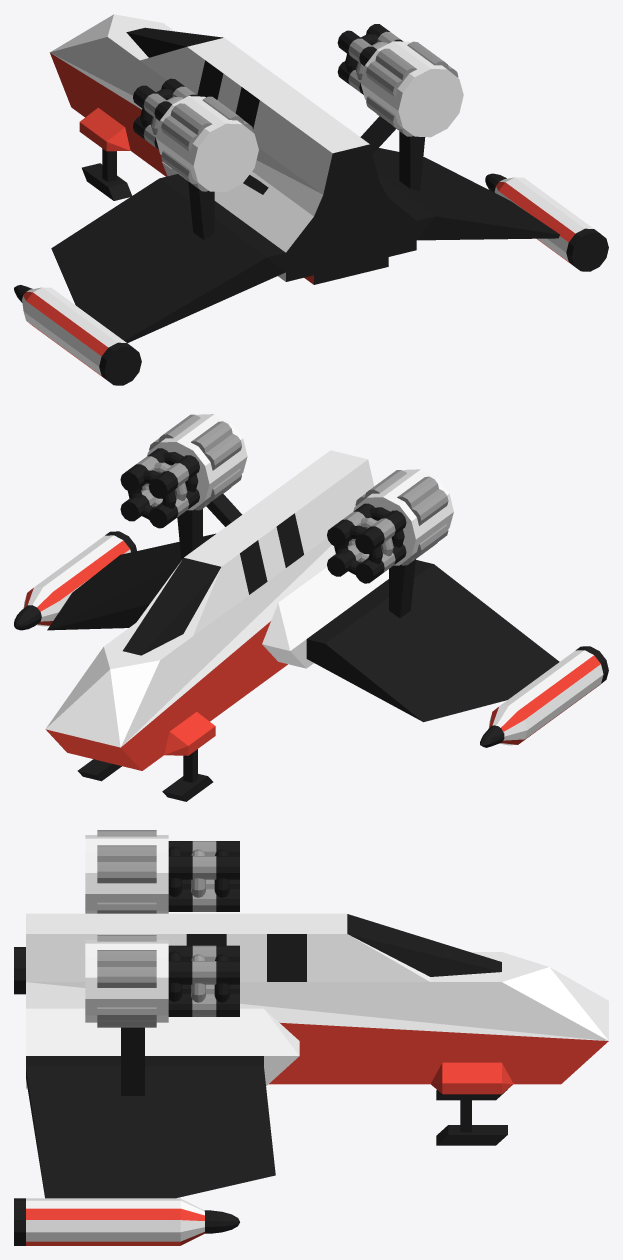
File: scene_6rPZsAc0vW.glb
The picture shows the model from 3 angles, top to bottom: view 1: azimuth 30°, elevation 25°; view 2: azimuth 150°, elevation 25°; view 3: azimuth 270°, elevation 25°; orthographic projection. The views are drawn at different scales.
Parts seen in each view (by area): view 1: group708809143; view 2: group708809143; view 3: group708809143.
Part boxes in pixels (left/top/right/bottom): group708809143: left=14, top=14, right=608, bottom=385; group708809143: left=14, top=414, right=608, bottom=801; group708809143: left=14, top=830, right=608, bottom=1245.
Bounding box in the file's own units: 0.54 × 0.215 × 0.5.
